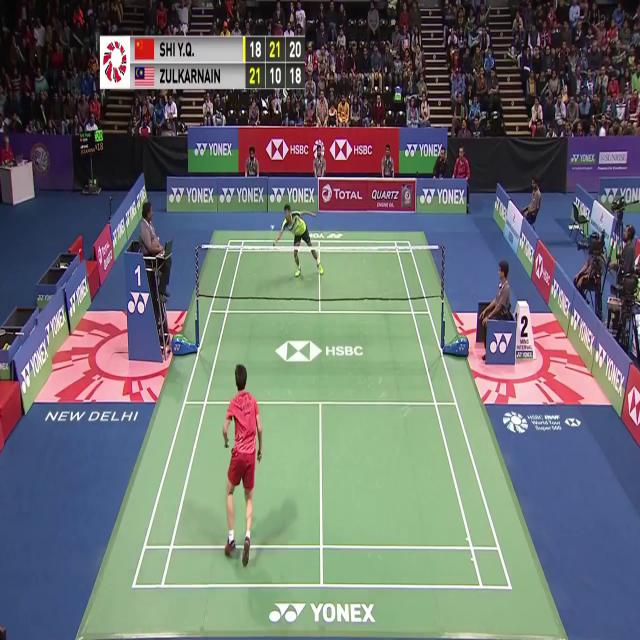Shuttlecock: (269, 223, 276, 234)
